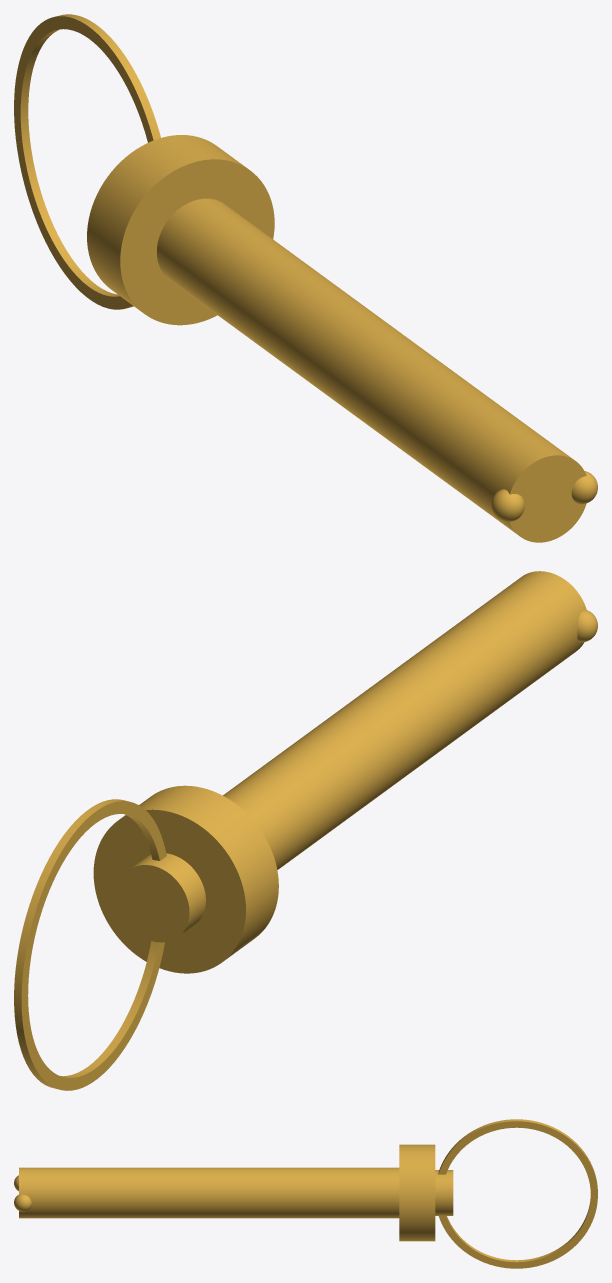
Rendered from 07_pasador_cabeza_1-2.glb.
3 renders of one model, top to bottom at view 1: azimuth 30°, elevation 25°; view 2: azimuth 150°, elevation 25°; view 3: azimuth 270°, elevation 25°, orthographic. The views are drawn at different scales.
Parts seen in each view (by area): view 1: 07_pasador_cabeza_1-2; view 2: 07_pasador_cabeza_1-2; view 3: 07_pasador_cabeza_1-2.
Part boxes in pixels (left/top/right/bottom): 07_pasador_cabeza_1-2: left=14, top=14, right=597, bottom=542; 07_pasador_cabeza_1-2: left=14, top=571, right=597, bottom=1090; 07_pasador_cabeza_1-2: left=14, top=1119, right=597, bottom=1268.
Bounding box in the file's own units: 24.13 × 40.62 × 146.
